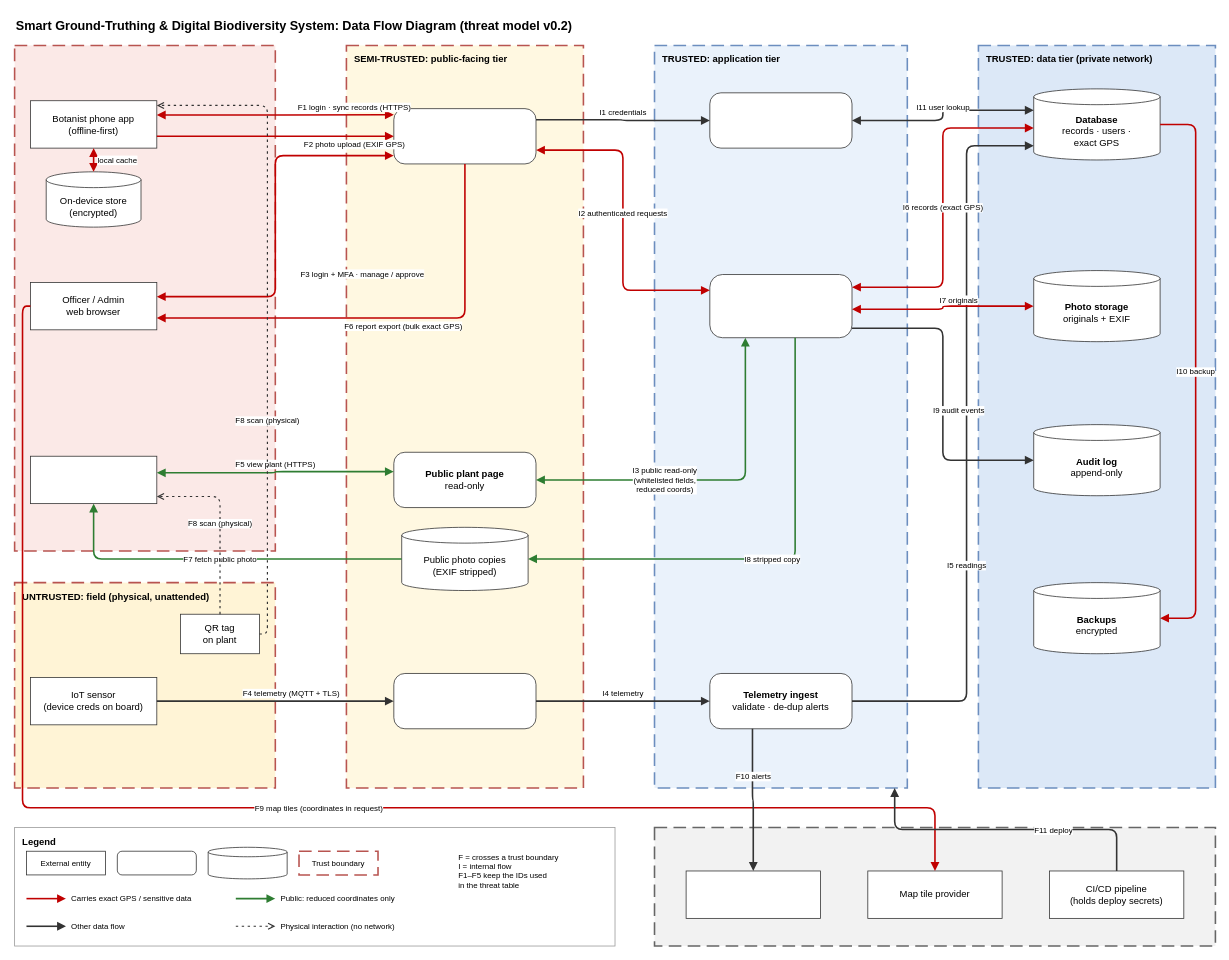
This 1229x960 diagram has some shape labels left out. Each missing label, with the box of its shape:
API RBAC · validation · coordinate reduction: (709, 274, 852, 338)
Auth service login · MFA · tokens · reset: (709, 92, 852, 148)
Data store: (207, 846, 287, 879)
Email / SMS provider: (685, 870, 820, 918)
EXTERNAL: third-party services: (653, 826, 1216, 946)
MQTT broker per-device creds · topic ACLs: (393, 673, 536, 729)
Process: (117, 850, 196, 875)
Reverse proxy / gateway TLS · rate limit · size limit: (393, 108, 536, 164)
UNTRUSTED: user devices on the internet: (13, 44, 276, 551)
Visitor browser (not logged in): (30, 455, 157, 504)
